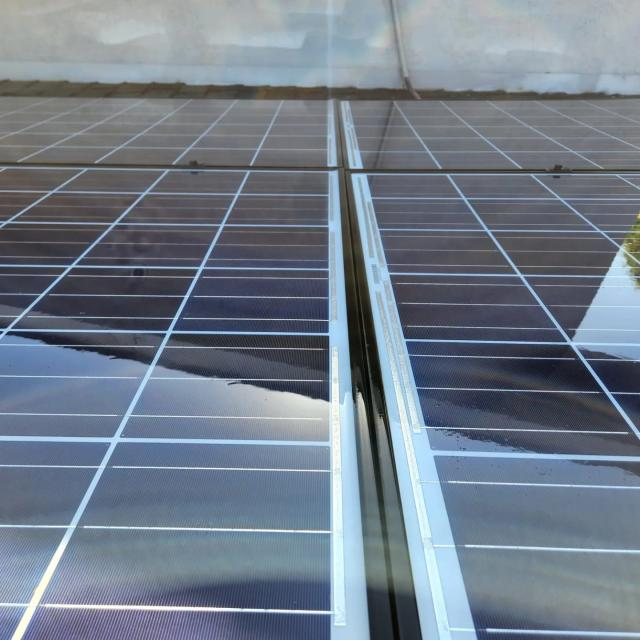clean-solar-panel: (436, 456, 640, 640)
